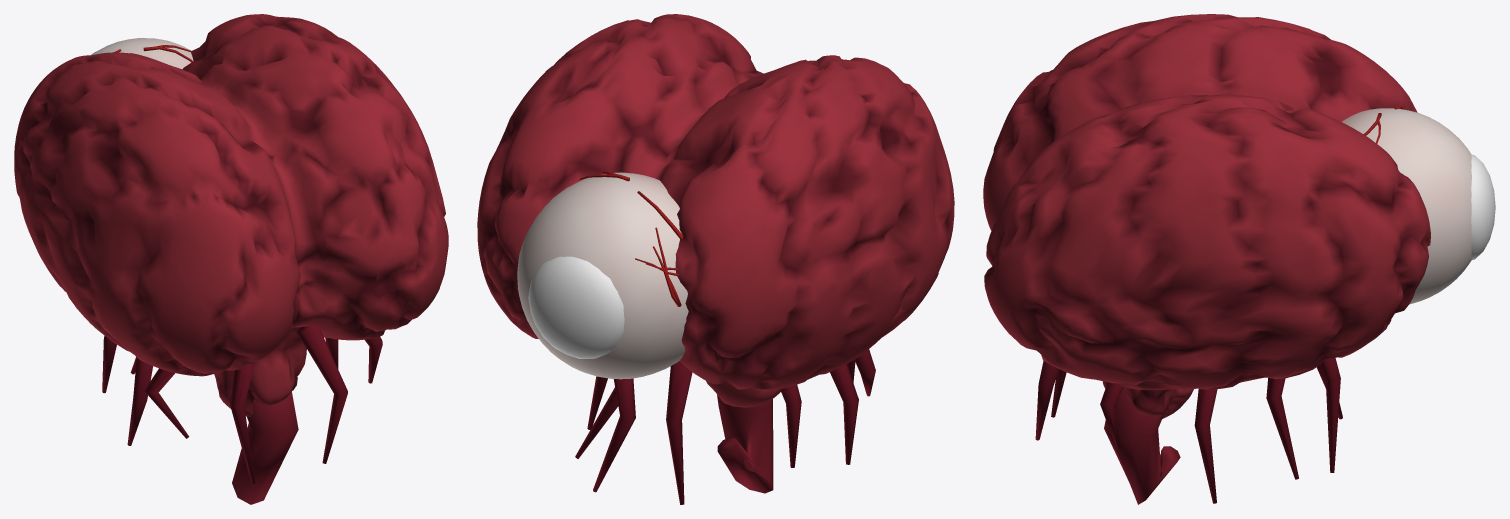
File: brain_of_cthulhu_exposed.glb
The picture shows the model from 3 angles, left to right: view 1: azimuth 30°, elevation 25°; view 2: azimuth 150°, elevation 25°; view 3: azimuth 270°, elevation 25°; orthographic projection. The views are drawn at different scales.
Parts seen in each view (by area): view 1: brain_of_cthulhu_exposed; view 2: brain_of_cthulhu_exposed; view 3: brain_of_cthulhu_exposed.
Boxes of the visible parts, x1=… form: brain_of_cthulhu_exposed: x1=14, y1=14, x2=448, y2=504; brain_of_cthulhu_exposed: x1=477, y1=14, x2=954, y2=504; brain_of_cthulhu_exposed: x1=983, y1=14, x2=1495, y2=504.
Bounding box in the file's own units: 2.23 × 2.71 × 2.84.
